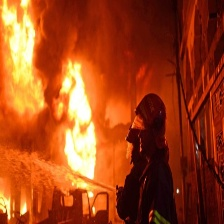fire: (64, 70, 97, 181), (2, 2, 35, 102), (1, 190, 29, 221)
smoke: (33, 1, 73, 107)
